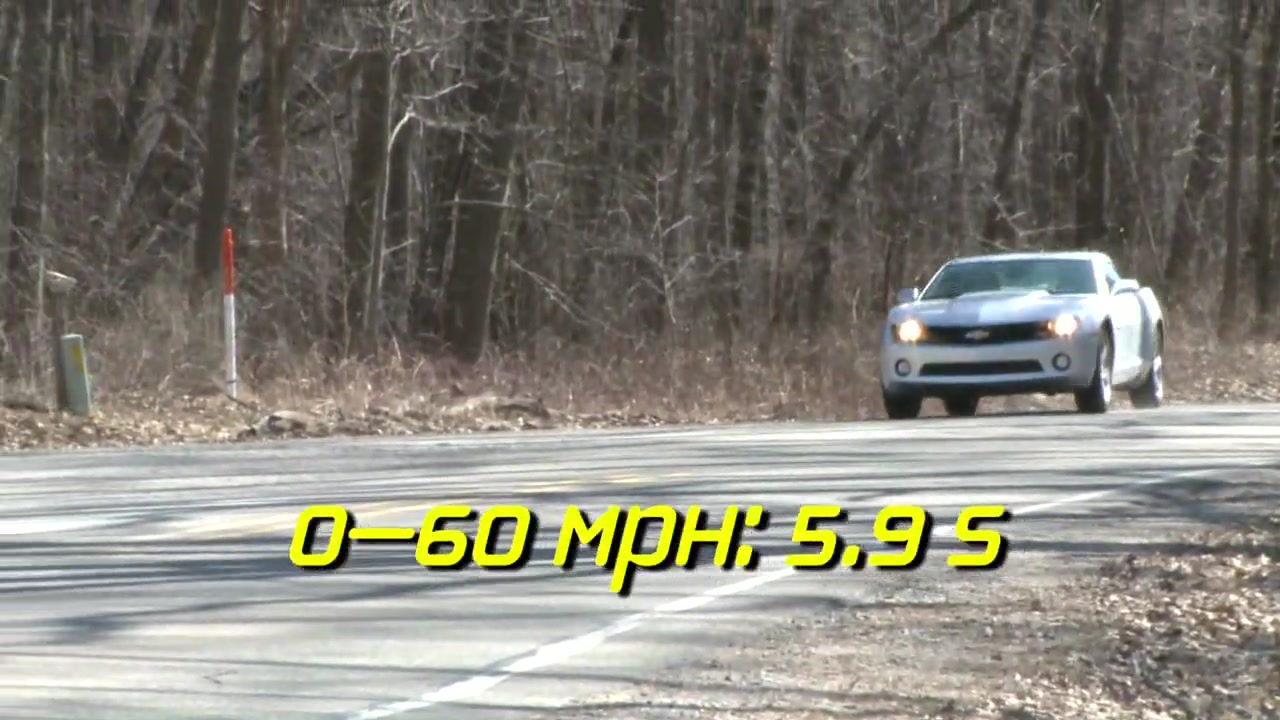car: (876, 246, 1174, 416)
